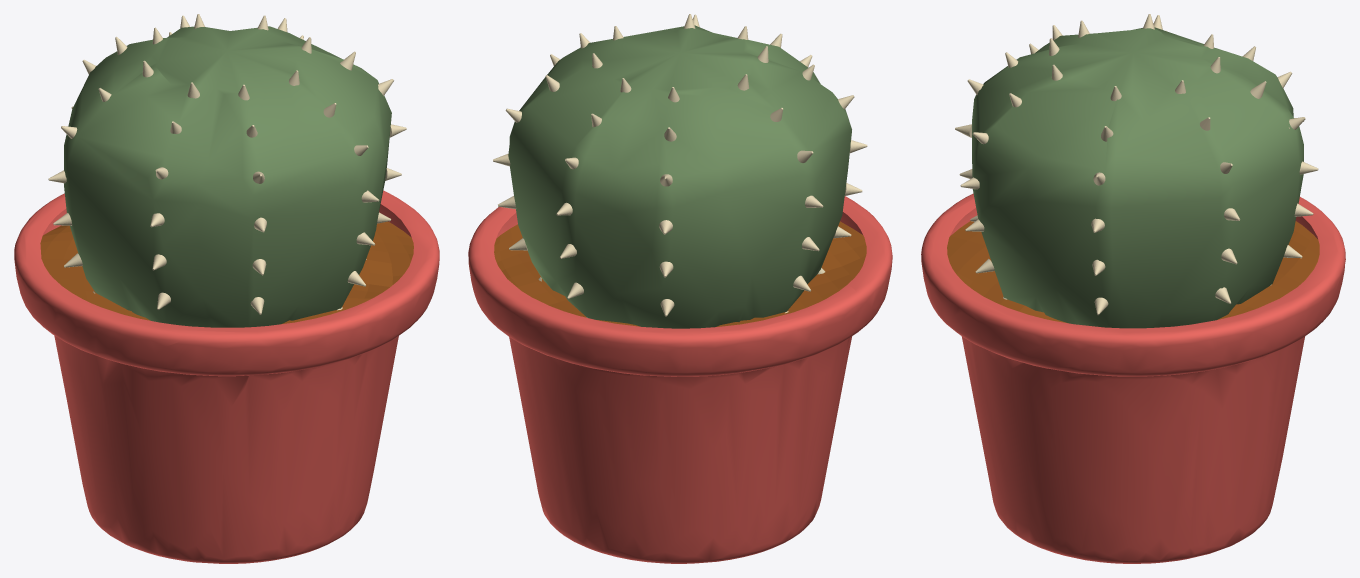
Rendered from cactus.glb.
The picture shows the model from 3 angles, left to right: view 1: azimuth 30°, elevation 25°; view 2: azimuth 150°, elevation 25°; view 3: azimuth 270°, elevation 25°; orthographic projection.
Visible parts, largest first — view 1: pot, cactus, ground, Cylinder.007, Cylinder.004, Cylinder.009, Cylinder.005, Cylinder.017; view 2: cactus, pot, ground, Cylinder.009, Cylinder.011, Cylinder.015, Cylinder.013, Cylinder.007; view 3: cactus, pot, ground, Cylinder.013, Cylinder.004, Cylinder.017, Cylinder.015, Cylinder.005.
Part boxes in pixels (left/top/right/bottom): pot: left=14, top=190, right=439, bottom=563; cactus: left=64, top=26, right=391, bottom=327; ground: left=40, top=221, right=413, bottom=324; Cylinder.007: left=150, top=82, right=199, bottom=309; Cylinder.004: left=289, top=70, right=379, bottom=310; Cylinder.009: left=48, top=60, right=153, bottom=293; Cylinder.005: left=238, top=84, right=266, bottom=314; Cylinder.017: left=301, top=37, right=406, bottom=259; cactus: left=508, top=25, right=851, bottom=328; pot: left=468, top=196, right=892, bottom=563; ground: left=494, top=221, right=866, bottom=326; Cylinder.009: left=737, top=74, right=823, bottom=313; Cylinder.011: left=659, top=87, right=679, bottom=316; Cylinder.015: left=493, top=53, right=602, bottom=281; Cylinder.013: left=556, top=78, right=631, bottom=317; Cylinder.007: left=757, top=46, right=867, bottom=274; cactus: left=972, top=27, right=1303, bottom=328; pot: left=921, top=193, right=1345, bottom=563; ground: left=947, top=221, right=1319, bottom=323; Cylinder.013: left=1210, top=57, right=1318, bottom=285; Cylinder.004: left=960, top=64, right=1062, bottom=299; Cylinder.017: left=1091, top=86, right=1121, bottom=315; Cylinder.015: left=1175, top=80, right=1240, bottom=303; Cylinder.005: left=955, top=38, right=1059, bottom=221.
Size of the model in its own units: 1.58 by 1.88 by 1.58.
